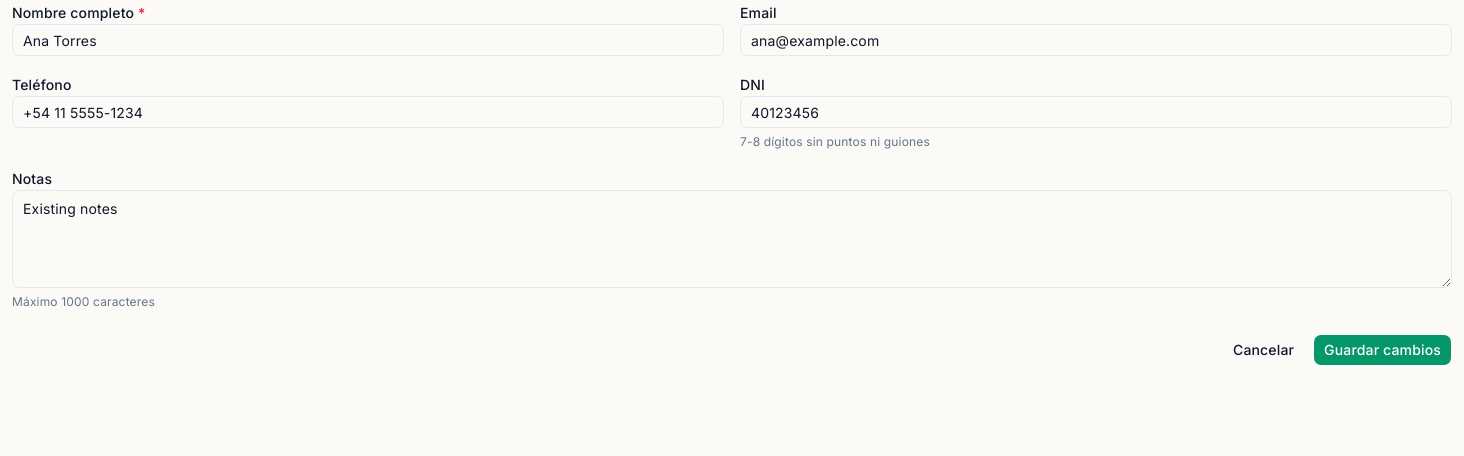
Test: PatientForm — client-side validation › shows 'El DNI debe tener 7-8 dígitos sin separadores' when documentId is invalid
Replace the text in the field labelled "DNI" with "ABC123" at point(1096, 112), box [740, 96, 1452, 128]
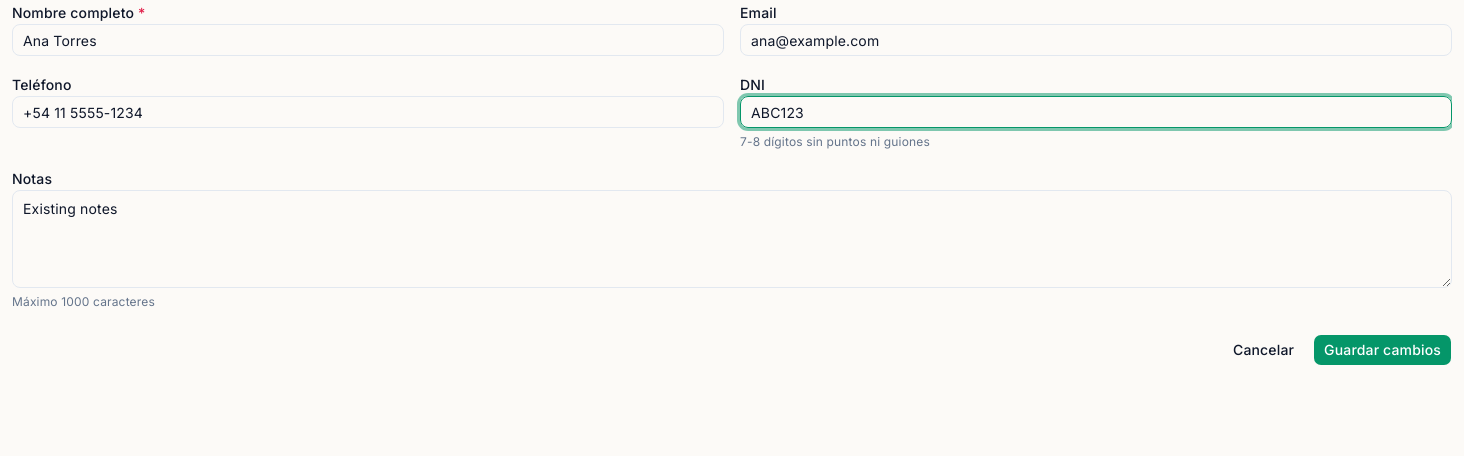
Click the button "Guardar cambios".
click(1383, 350)  # box [1313, 334, 1452, 366]
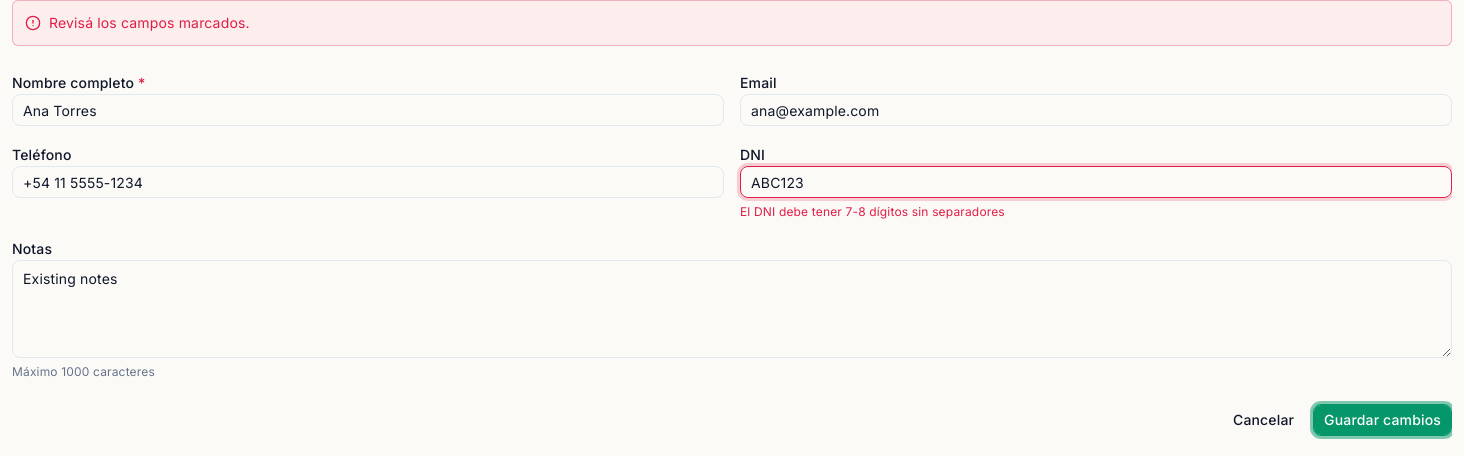
expect the text "El DNI debe tener 7-8 dígitos sin separadores" is shown: met, box [740, 204, 1005, 219]
